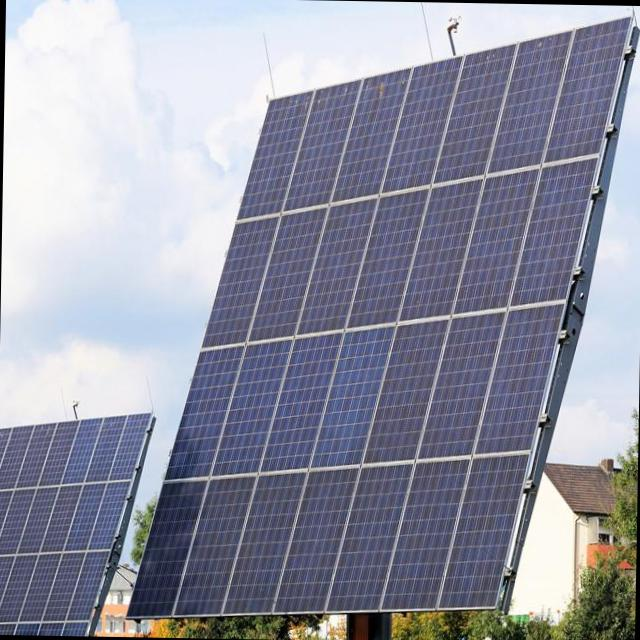no faulty: (136, 24, 632, 622)
